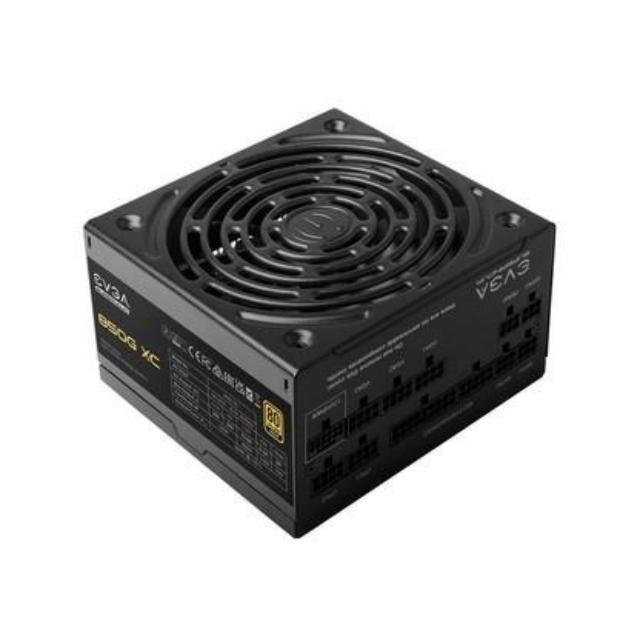PSU: (81, 102, 559, 544)
